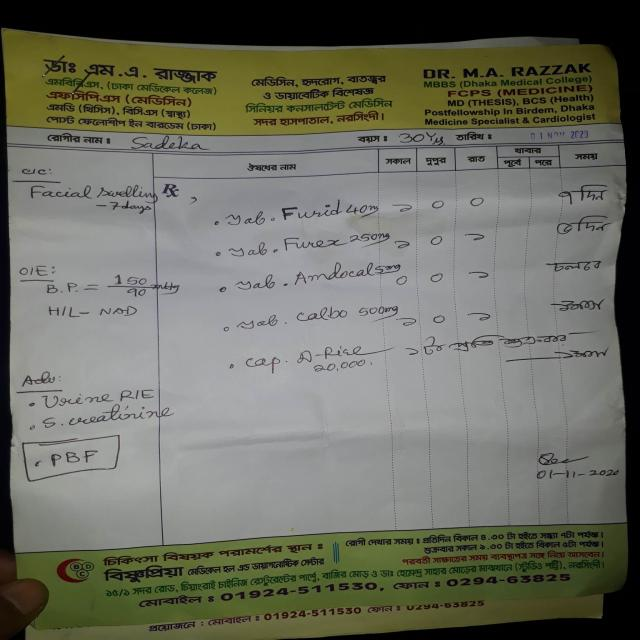Amdocal: (289, 263, 378, 286)
Calbo D: (292, 300, 350, 323)
D-Rise: (292, 339, 366, 363)
Furex: (278, 233, 345, 256)
Fusid: (279, 195, 347, 222)
